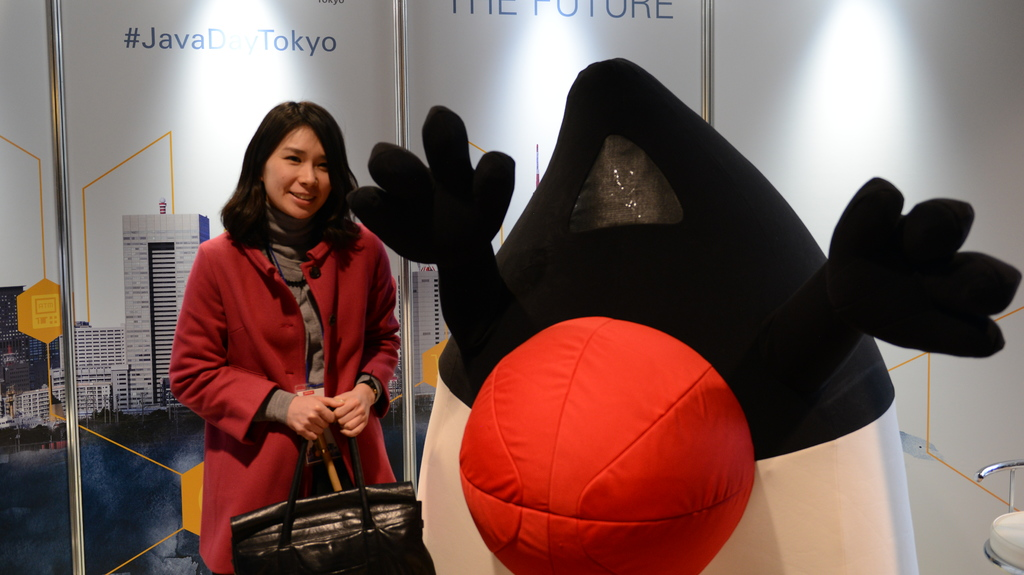Ball: (458, 317, 755, 571)
